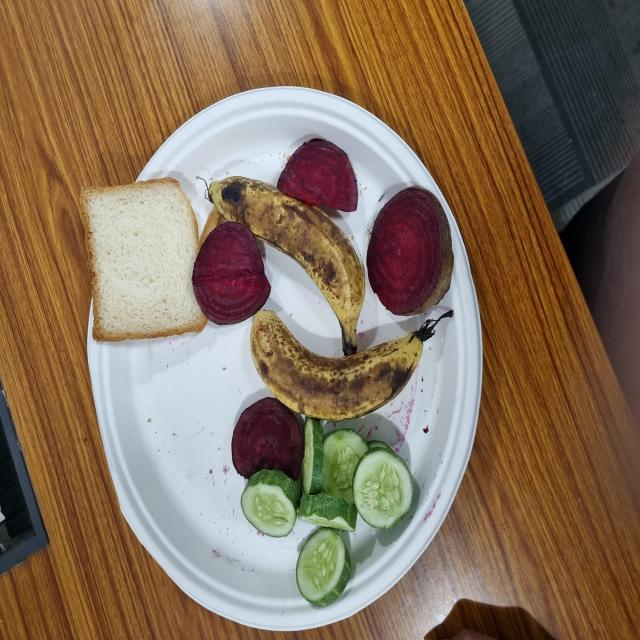banana: (218, 277, 348, 489), (169, 336, 249, 558)
cucumber: (83, 397, 166, 557), (24, 395, 87, 476), (77, 321, 129, 404)
